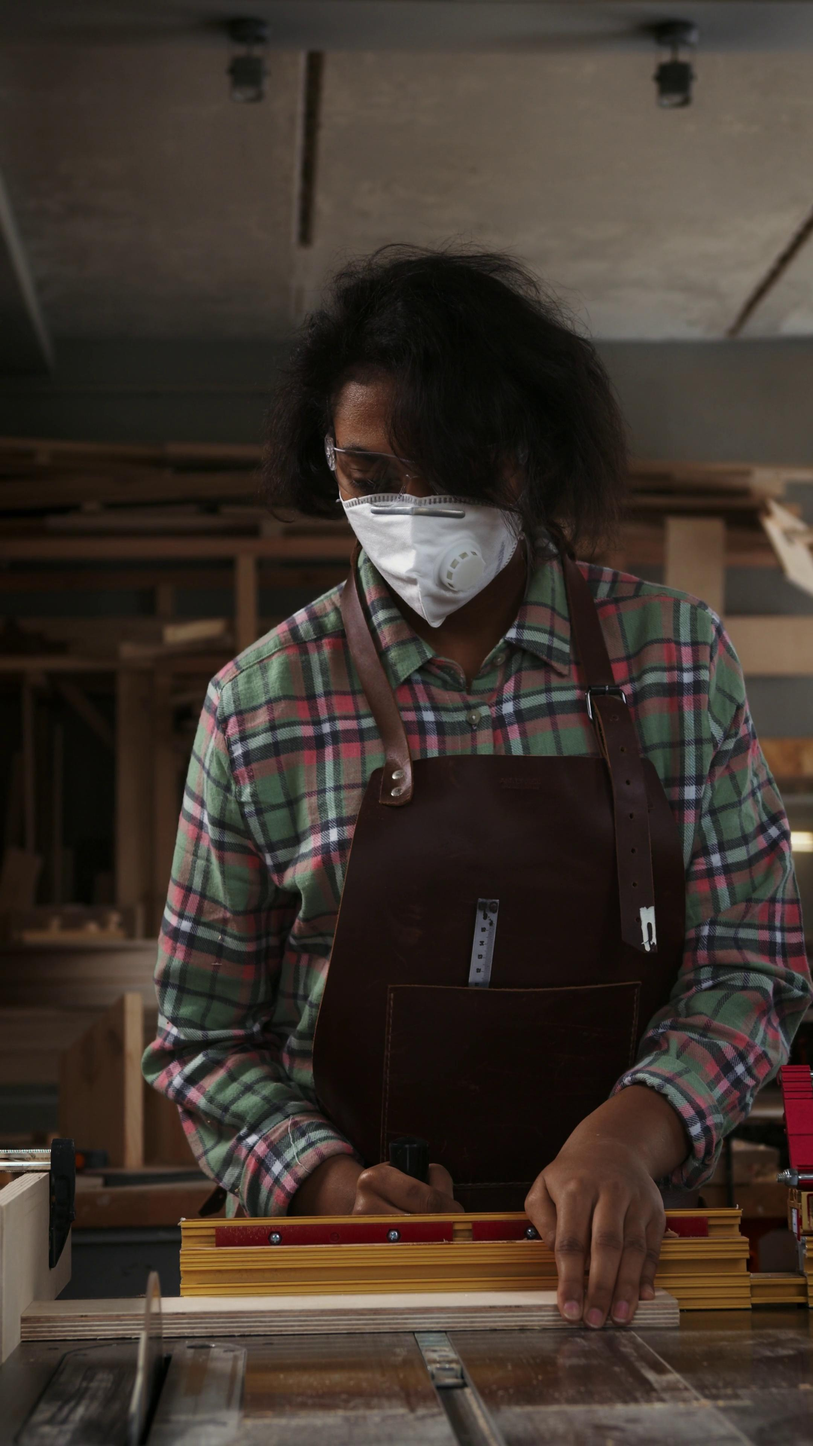mask: (336, 490, 524, 628)
person: (144, 241, 813, 1336)
